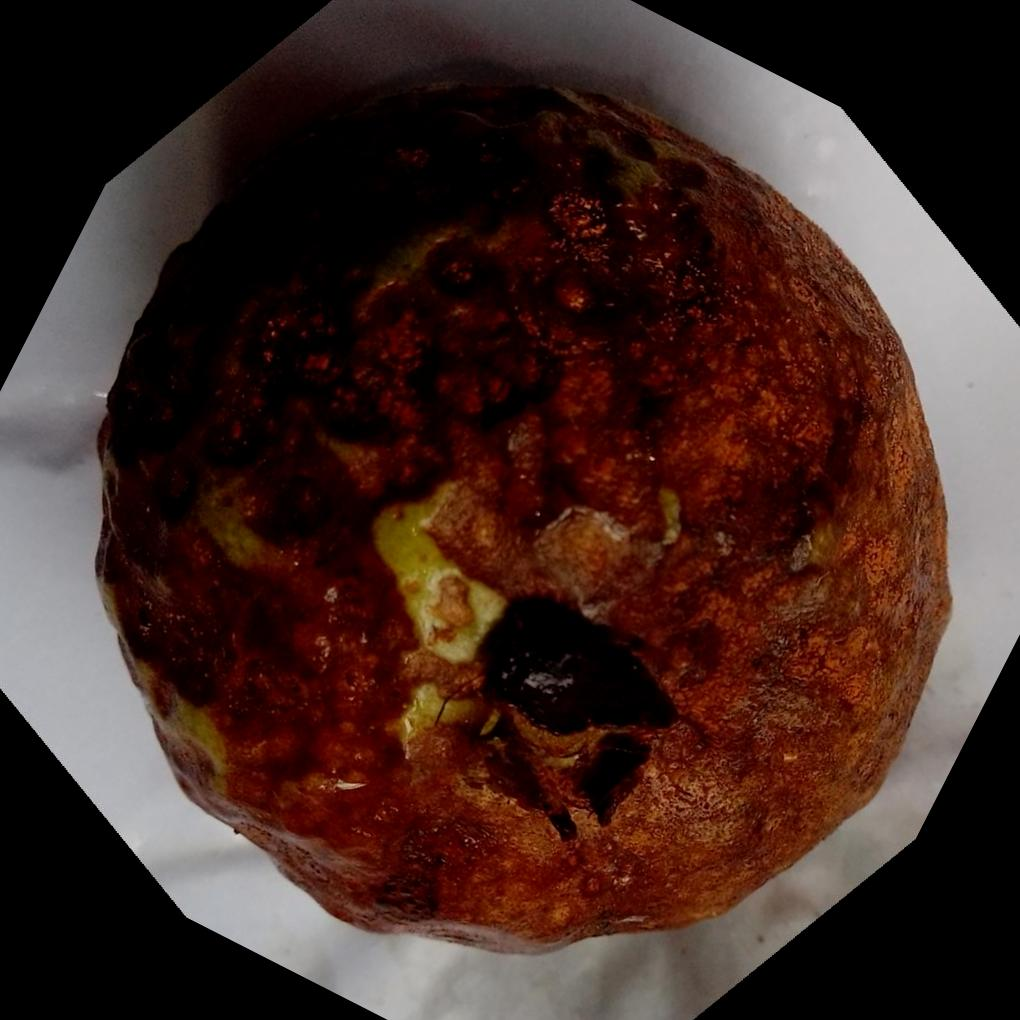FreshOrange: (94, 69, 955, 954)
